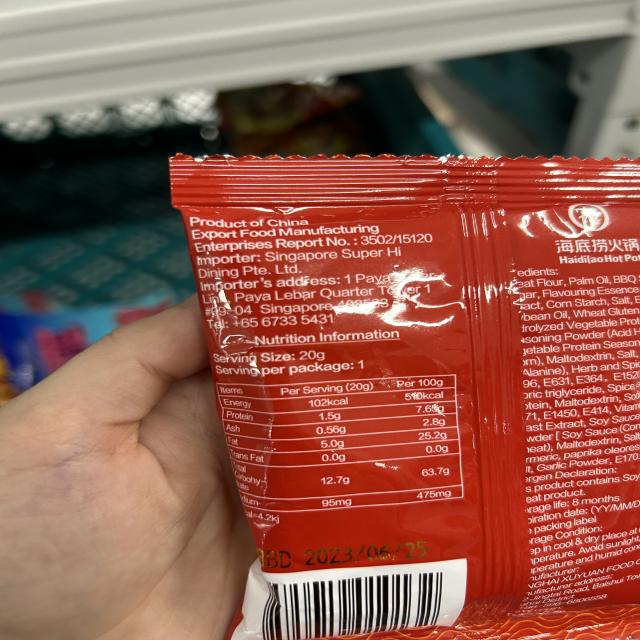object_name: (192, 165, 640, 633)
